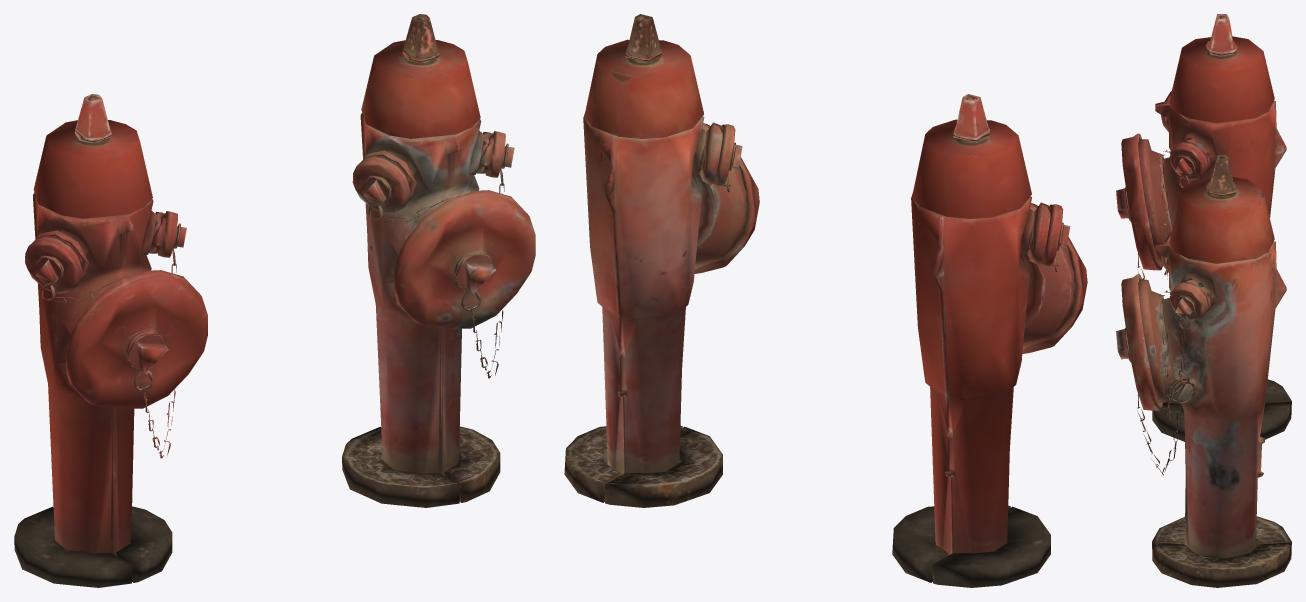
Rendered from hydrant.glb.
The picture shows the model from 3 angles, left to right: view 1: azimuth 30°, elevation 25°; view 2: azimuth 150°, elevation 25°; view 3: azimuth 270°, elevation 25°; orthographic projection. The views are drawn at different scales.
Visible parts, largest first — view 1: fire_hydrant, fire_hydrant_aged, fire_hydrant_cap_01, fire_hydrant_cap_01_aged, fire_hydrant_cap_03_aged, fire_hydrant_cap_03, fire_hydrant_chain, fire_hydrant_chain_aged, fire_hydrant_cap_02, fire_hydrant_cap_02_aged; view 2: fire_hydrant_aged, fire_hydrant, fire_hydrant_cap_01_aged, fire_hydrant_cap_01, fire_hydrant_cap_03, fire_hydrant_cap_03_aged; view 3: fire_hydrant_aged, fire_hydrant, fire_hydrant_cap_01, fire_hydrant_cap_01_aged, fire_hydrant_chain_aged, fire_hydrant_cap_02_aged, fire_hydrant_cap_02, fire_hydrant_chain.
Boxes of the visible parts, x1=… form: fire_hydrant: x1=14, y1=94, x2=172, y2=587; fire_hydrant_aged: x1=342, y1=14, x2=500, y2=507; fire_hydrant_cap_01: x1=66, y1=270, x2=207, y2=408; fire_hydrant_cap_01_aged: x1=394, y1=190, x2=535, y2=328; fire_hydrant_cap_03_aged: x1=352, y1=155, x2=411, y2=213; fire_hydrant_cap_03: x1=25, y1=235, x2=83, y2=293; fire_hydrant_chain: x1=40, y1=226, x2=177, y2=458; fire_hydrant_chain_aged: x1=367, y1=147, x2=505, y2=378; fire_hydrant_cap_02: x1=158, y1=211, x2=186, y2=257; fire_hydrant_cap_02_aged: x1=485, y1=131, x2=514, y2=177; fire_hydrant_aged: x1=564, y1=14, x2=747, y2=507; fire_hydrant: x1=892, y1=94, x2=1075, y2=587; fire_hydrant_cap_01_aged: x1=694, y1=123, x2=759, y2=273; fire_hydrant_cap_01: x1=1022, y1=203, x2=1087, y2=353; fire_hydrant_cap_03: x1=1040, y1=204, x2=1070, y2=266; fire_hydrant_cap_03_aged: x1=713, y1=124, x2=742, y2=186; fire_hydrant_aged: x1=1139, y1=154, x2=1291, y2=587; fire_hydrant: x1=1139, y1=14, x2=1291, y2=441; fire_hydrant_cap_01: x1=1116, y1=133, x2=1162, y2=270; fire_hydrant_cap_01_aged: x1=1116, y1=274, x2=1162, y2=410; fire_hydrant_chain_aged: x1=1137, y1=290, x2=1196, y2=475; fire_hydrant_cap_02_aged: x1=1169, y1=282, x2=1208, y2=320; fire_hydrant_cap_02: x1=1169, y1=141, x2=1208, y2=180; fire_hydrant_chain: x1=1137, y1=150, x2=1190, y2=279.
Size of the model in its own units: 0.8742 by 0.7992 by 0.3173.
2 materials, 2 textured.
